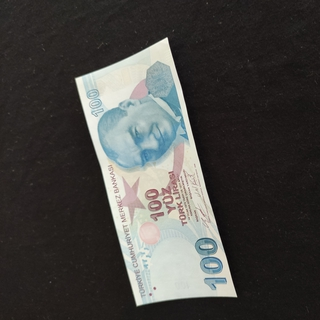100TLFront: (74, 35, 238, 307)
